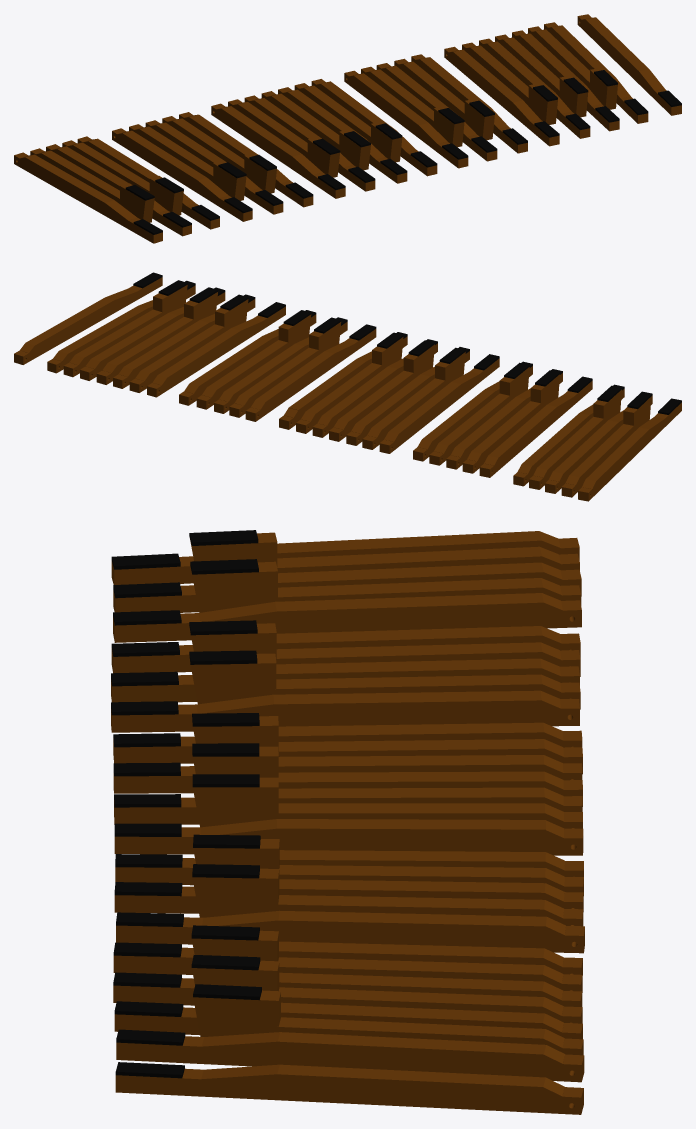
The model's file is Pedals.fbx.
3 views of the same model, one above another, from view 1: azimuth 30°, elevation 25°; view 2: azimuth 150°, elevation 25°; view 3: azimuth 270°, elevation 25° (orthographic). The views are drawn at different scales.
Parts seen in each view (by area): view 1: pCube50, pCube46, pCube43, pCube31, pCube34, pCube39, polySurface28, polySurface26, polySurface25, polySurface21, polySurface30, polySurface22 (+18 smaller); view 2: pCube39, pCube34, pCube31, pCube43, pCube46, pCube50, polySurface22, polySurface21, polySurface26, polySurface25, polySurface19, polySurface28 (+18 smaller); view 3: pCube39, pCube38, pCube47, pCube44, pCube33, polySurface21, polySurface20, polySurface27, polySurface24, polySurface31, polySurface29, polySurface26 (+21 smaller).
Boxes of the visible parts, bbox=[...] form: pCube50: bbox=[14, 152, 162, 243]; pCube46: bbox=[112, 128, 252, 221]; pCube43: bbox=[211, 103, 345, 198]; pCube31: bbox=[344, 70, 468, 168]; pCube34: bbox=[444, 46, 559, 146]; pCube39: bbox=[577, 14, 681, 115]; polySurface28: bbox=[129, 124, 246, 200]; polySurface26: bbox=[261, 91, 370, 170]; polySurface25: bbox=[228, 99, 340, 177]; polySurface21: bbox=[394, 58, 494, 140]; polySurface30: bbox=[30, 148, 154, 222]; polySurface22: bbox=[462, 42, 557, 124]; pCube39: bbox=[14, 272, 162, 364]; pCube34: bbox=[147, 302, 285, 397]; pCube31: bbox=[245, 324, 376, 421]; pCube43: bbox=[379, 354, 499, 453]; pCube46: bbox=[479, 376, 592, 477]; pCube50: bbox=[578, 398, 681, 501]; polySurface22: bbox=[129, 294, 248, 392]; polySurface21: bbox=[196, 310, 311, 409]; polySurface26: bbox=[329, 340, 434, 441]; polySurface25: bbox=[362, 347, 465, 449]; polySurface19: bbox=[229, 317, 341, 417]; polySurface28: bbox=[462, 370, 559, 473]; pCube39: bbox=[115, 1062, 583, 1114]; pCube38: bbox=[116, 1029, 584, 1082]; pCube47: bbox=[113, 593, 581, 642]; pCube44: bbox=[111, 690, 579, 732]; pCube33: bbox=[116, 910, 584, 953]; polySurface21: bbox=[192, 864, 583, 926]; polySurface20: bbox=[192, 774, 582, 828]; polySurface27: bbox=[189, 650, 580, 709]; polySurface24: bbox=[193, 984, 583, 1055]; polySurface31: bbox=[276, 819, 545, 851]; polySurface29: bbox=[190, 559, 581, 612]; polySurface26: bbox=[192, 743, 582, 806].
Size of the model in its own units: 69.27 by 3.19 by 24.8.
